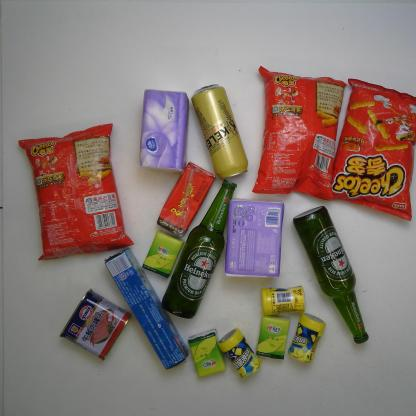Alcohol: (160, 178, 238, 320), (292, 205, 370, 345), (190, 82, 250, 180)
Canned Food: (58, 287, 132, 362)
Drink: (156, 159, 217, 236)
Gum: (218, 327, 263, 380), (286, 313, 326, 364), (260, 282, 306, 318)
Personal Hygiene: (103, 246, 189, 372)
Puffed Food: (17, 121, 134, 262), (251, 65, 348, 203), (329, 77, 416, 222)
Tissue: (224, 199, 285, 278), (138, 88, 190, 174), (141, 231, 185, 280), (186, 327, 226, 379), (256, 316, 290, 360)
